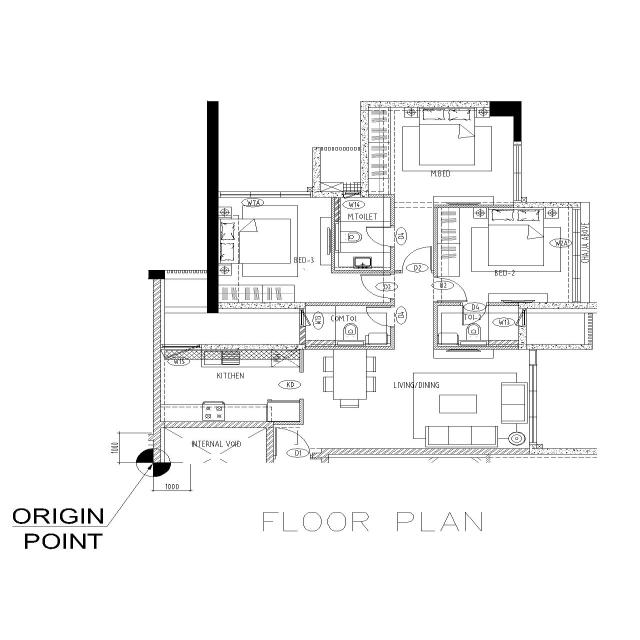Column: (205, 99, 220, 314), (488, 100, 522, 118), (512, 100, 522, 142), (147, 270, 166, 280)
Door: (272, 452, 314, 460), (389, 272, 395, 300), (432, 276, 438, 302), (389, 305, 395, 328), (400, 270, 434, 274), (390, 226, 396, 248), (460, 302, 489, 306)
Ventilator: (518, 308, 528, 327), (342, 191, 362, 198), (299, 308, 306, 328)
Window: (528, 348, 538, 446), (572, 206, 582, 304), (218, 191, 314, 198), (512, 143, 522, 203), (159, 344, 203, 352)
